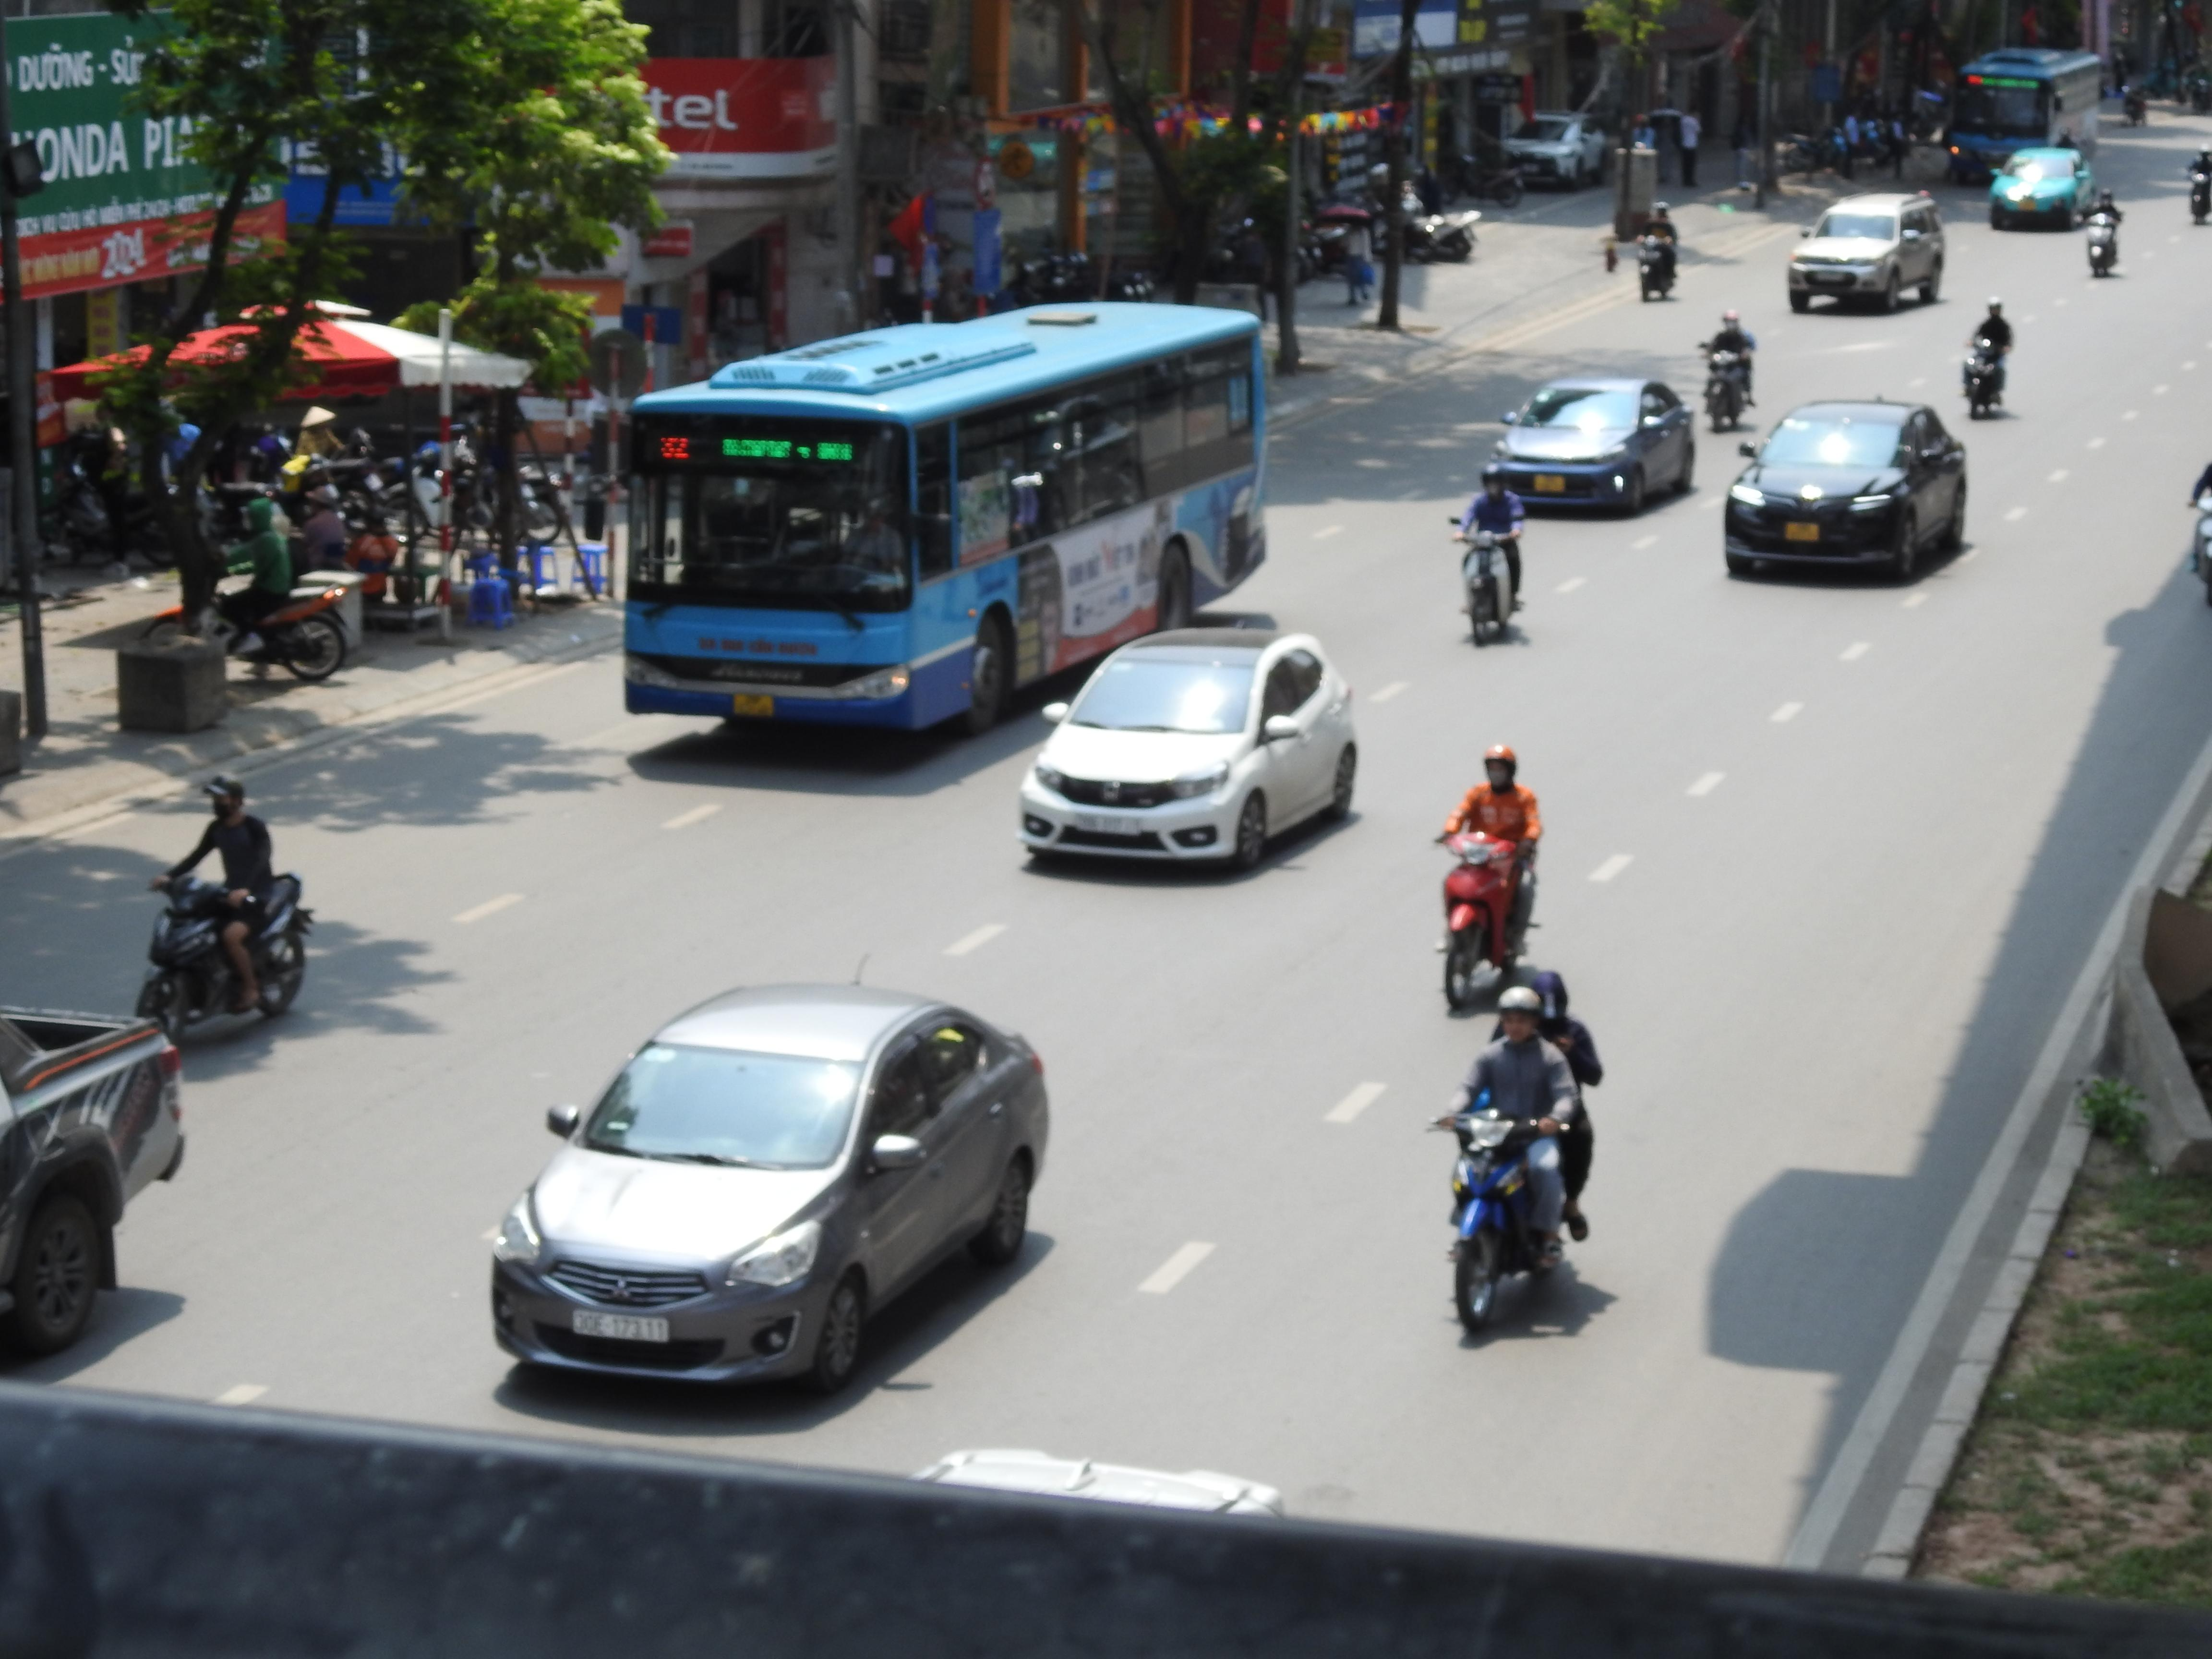BSD: (573, 1310, 669, 1342)
bus: (618, 296, 1271, 741), (1942, 45, 2104, 185)
car: (486, 981, 1052, 1398), (1017, 619, 1362, 877), (1723, 401, 1972, 586), (1484, 376, 1696, 518), (1785, 192, 1947, 315), (1987, 146, 2095, 232), (1501, 113, 1609, 192)
motorbike: (1433, 974, 1601, 1345), (136, 775, 315, 1047), (192, 500, 361, 685), (1435, 742, 1543, 1016), (1451, 464, 1527, 648), (1698, 307, 1759, 434), (1959, 298, 2015, 420), (1634, 202, 1681, 303), (2188, 443, 2212, 615), (2081, 185, 2125, 279), (2186, 139, 2212, 225)
